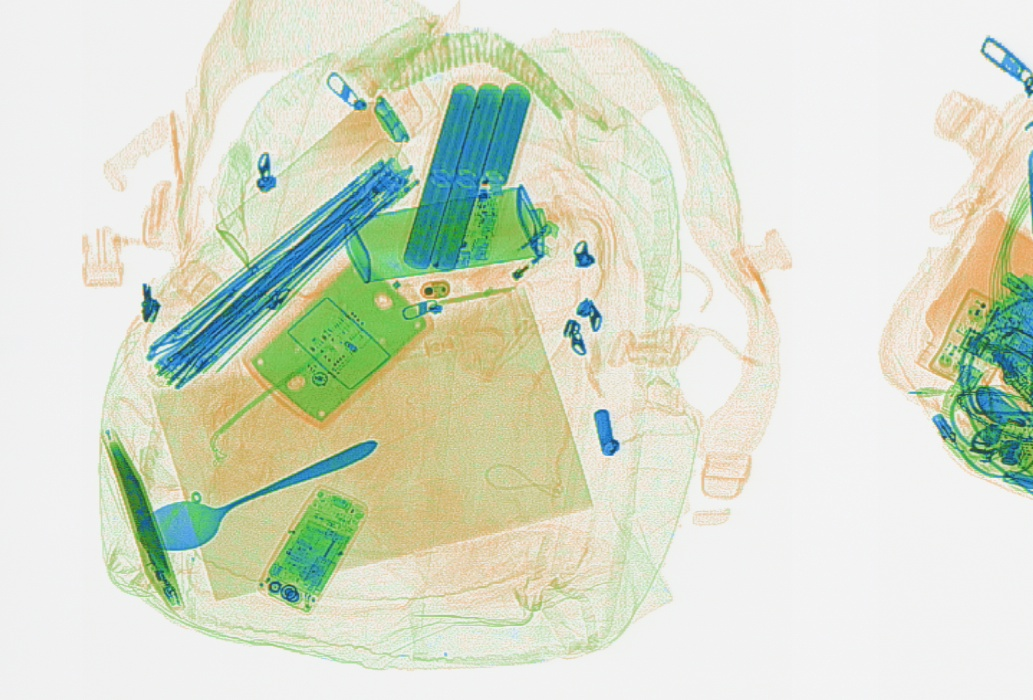lighter: (463, 221, 557, 311)
powerbank: (396, 68, 537, 280)
pressure: (212, 75, 445, 278)
zippooil: (335, 180, 553, 285)
